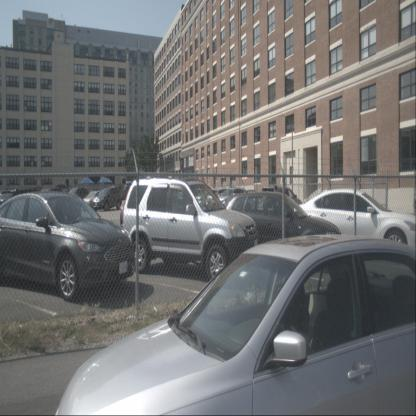human-pedestrian-adult: (272, 184, 281, 230)
vehicle-car: (42, 235, 416, 415), (120, 178, 260, 287), (1, 192, 135, 301), (287, 188, 416, 266), (226, 192, 341, 270), (258, 188, 302, 223), (213, 188, 251, 218), (92, 188, 122, 211), (66, 187, 90, 209), (83, 191, 105, 211)
